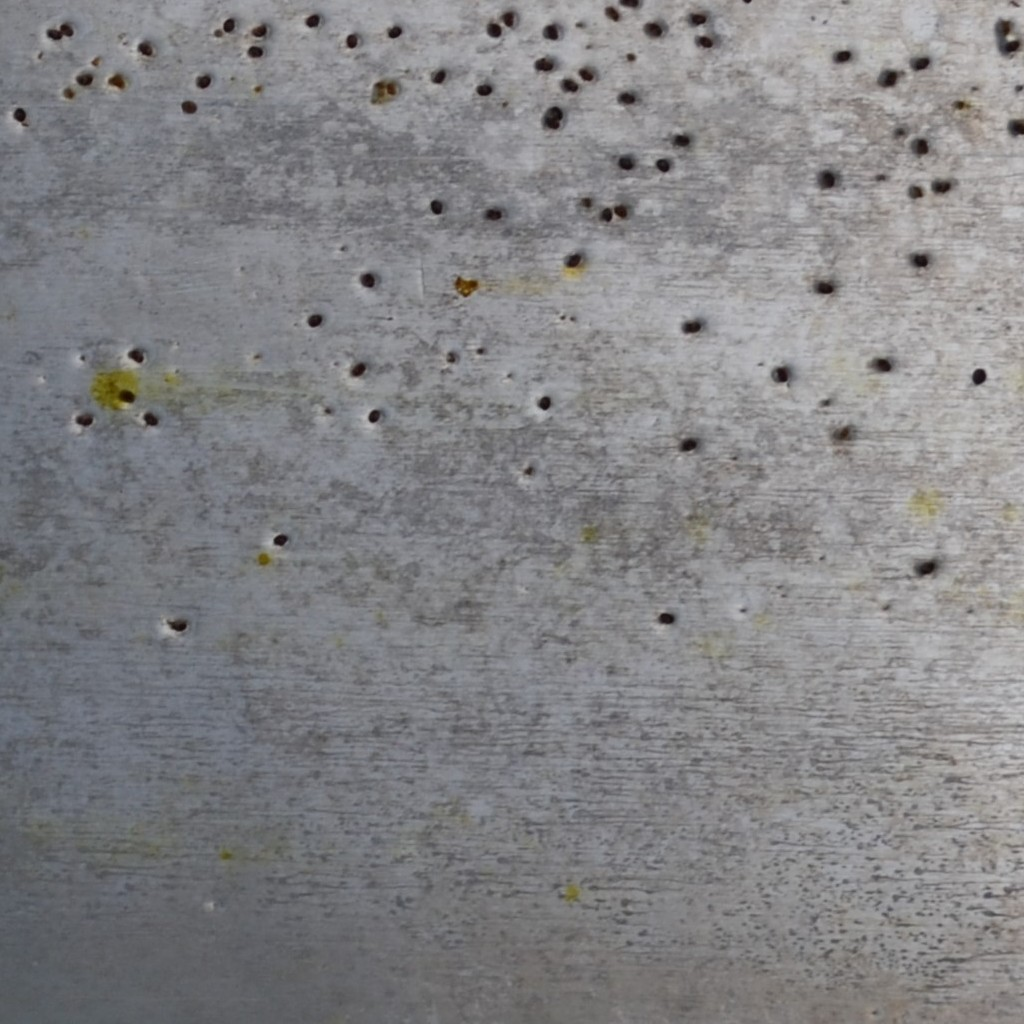varroa: (673, 429, 700, 456), (114, 380, 139, 406), (768, 356, 791, 383), (531, 53, 558, 76), (671, 127, 695, 152), (968, 362, 989, 390), (815, 165, 836, 193), (914, 556, 939, 579), (193, 69, 215, 95), (878, 64, 899, 91), (928, 174, 954, 195), (74, 406, 93, 434), (870, 352, 894, 374), (127, 340, 148, 365), (908, 247, 931, 269), (614, 153, 636, 176), (481, 204, 505, 225), (271, 528, 295, 549), (169, 615, 190, 639), (678, 318, 703, 337), (651, 156, 673, 177), (908, 53, 931, 73), (695, 33, 718, 53), (558, 75, 581, 95), (178, 95, 201, 115), (1006, 113, 1023, 140), (612, 200, 631, 224), (429, 66, 447, 91), (385, 21, 406, 42), (999, 37, 1021, 57), (141, 408, 161, 430), (303, 9, 322, 32), (347, 361, 370, 380), (655, 607, 676, 627), (577, 65, 597, 86), (562, 249, 583, 269), (343, 29, 362, 51), (136, 37, 155, 59), (473, 81, 496, 99), (537, 393, 555, 416), (814, 277, 835, 296), (689, 8, 710, 27), (644, 19, 665, 38), (541, 21, 562, 40), (360, 268, 378, 290), (541, 103, 567, 118), (246, 41, 265, 61), (616, 87, 635, 106), (484, 22, 504, 40), (306, 310, 324, 330), (994, 15, 1012, 34), (499, 11, 518, 29), (250, 22, 268, 41), (75, 68, 93, 87), (11, 101, 28, 121), (221, 14, 235, 38), (602, 6, 620, 24), (833, 48, 852, 65), (364, 405, 381, 424), (914, 135, 930, 155), (60, 21, 76, 41), (541, 114, 562, 129), (596, 205, 613, 223), (44, 24, 62, 41), (906, 182, 923, 199), (427, 197, 444, 214), (620, 1, 641, 11)
